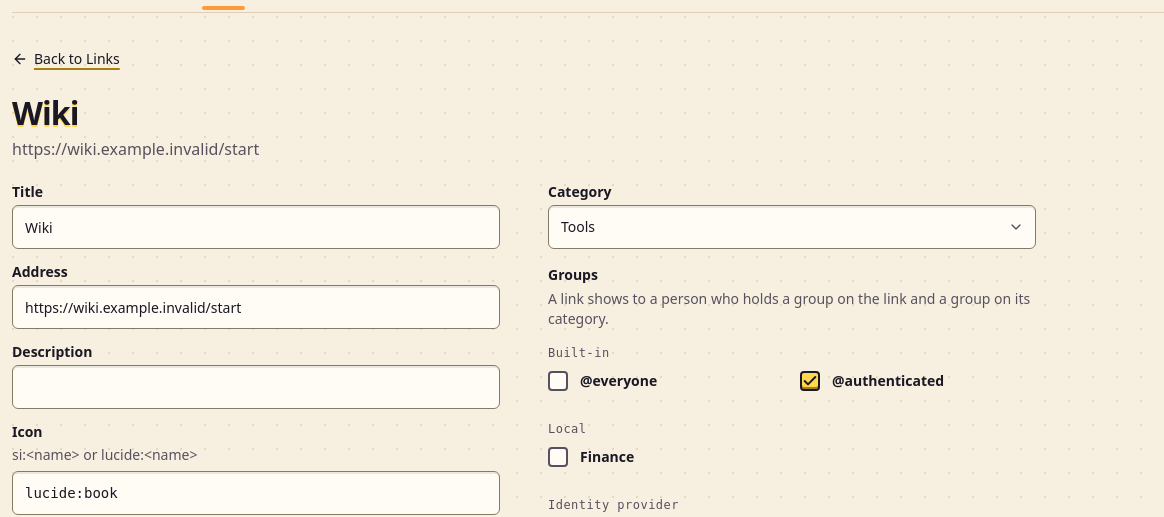
Scenario: LinkPage › shows the warnings of a save that went through
The image size is (1164, 517).
Check: the heading "Wiki" is shown, box [12, 91, 78, 134]
Click the checkbox labelled "@authenticated" at (810, 381), box [800, 371, 820, 391]
(page scrolled)
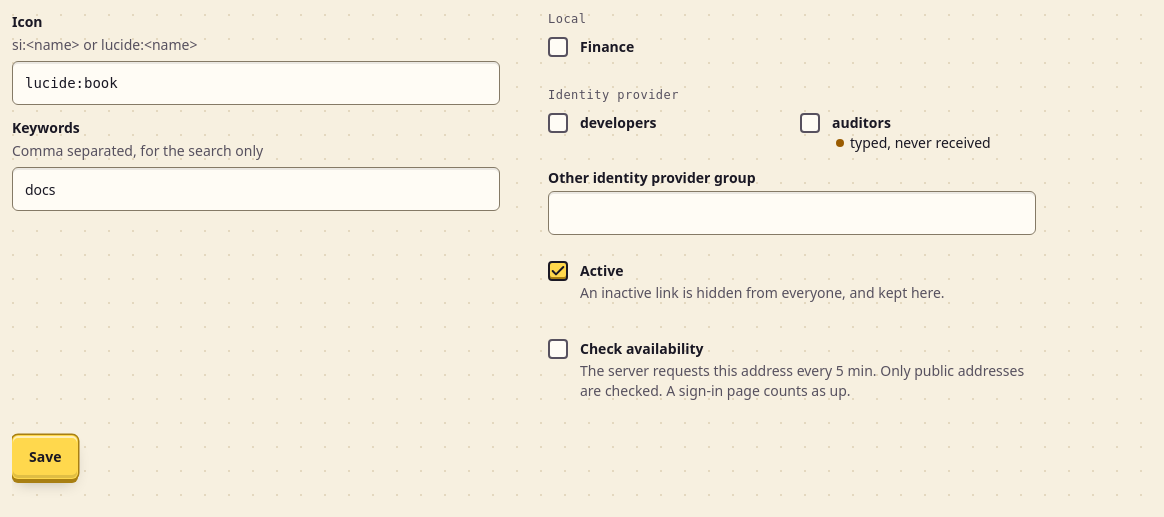
Click the button "Save" at (45, 457), box [12, 435, 78, 479]
(page scrolled)
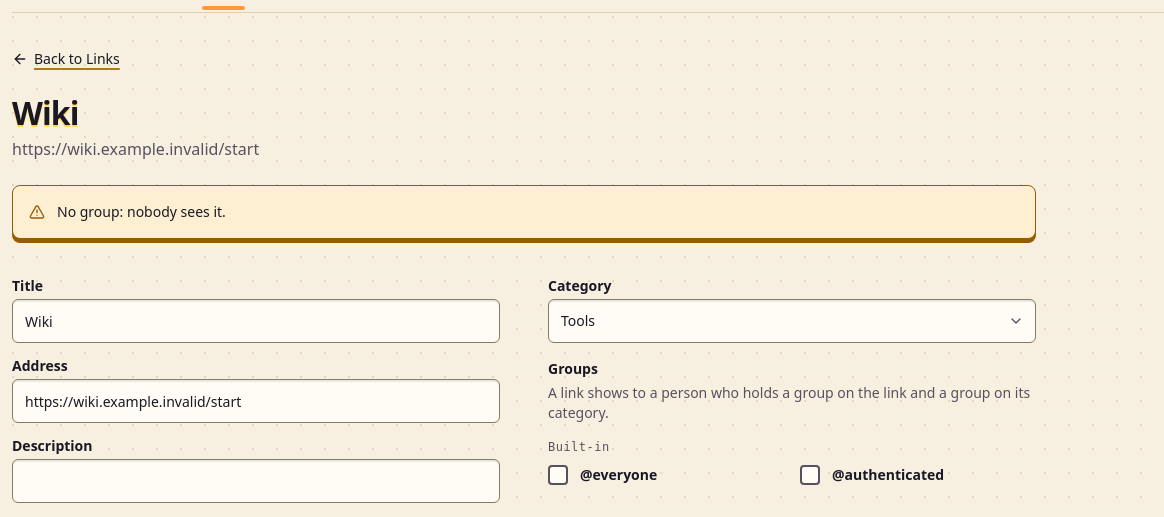
Check: the list item "No group: nobody sees it." is shown, box [57, 202, 226, 221]
